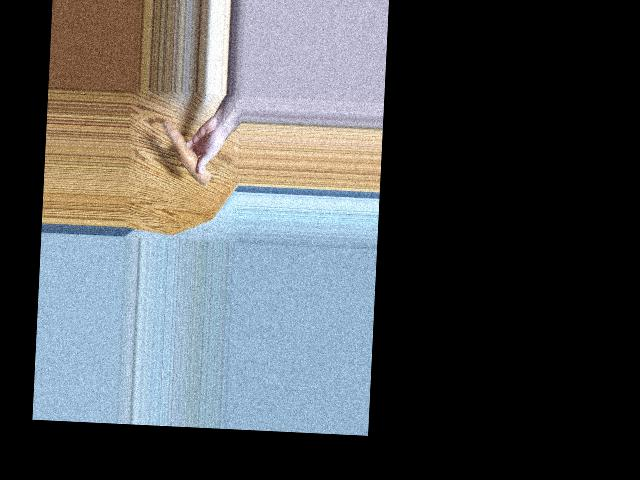sweet_potato: (162, 121, 214, 180)
